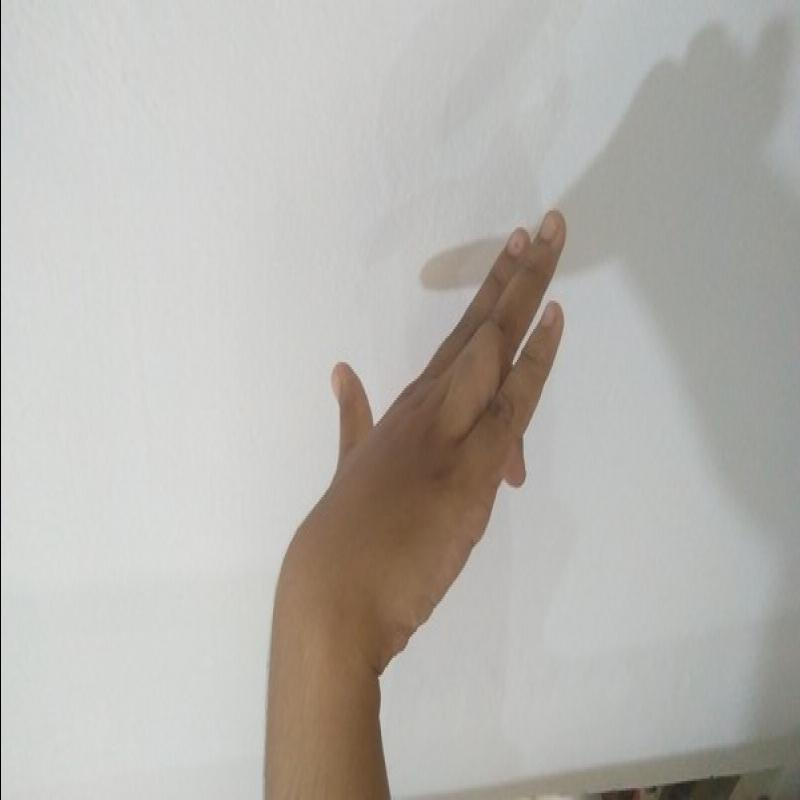Pathaaka: (273, 193, 591, 689)
